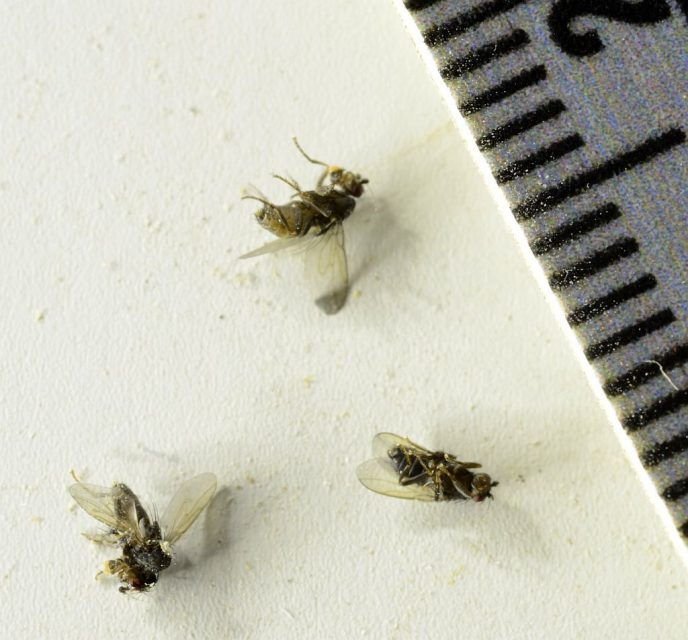phorid fly: (53, 441, 241, 614), (226, 144, 378, 318), (348, 435, 503, 513)
